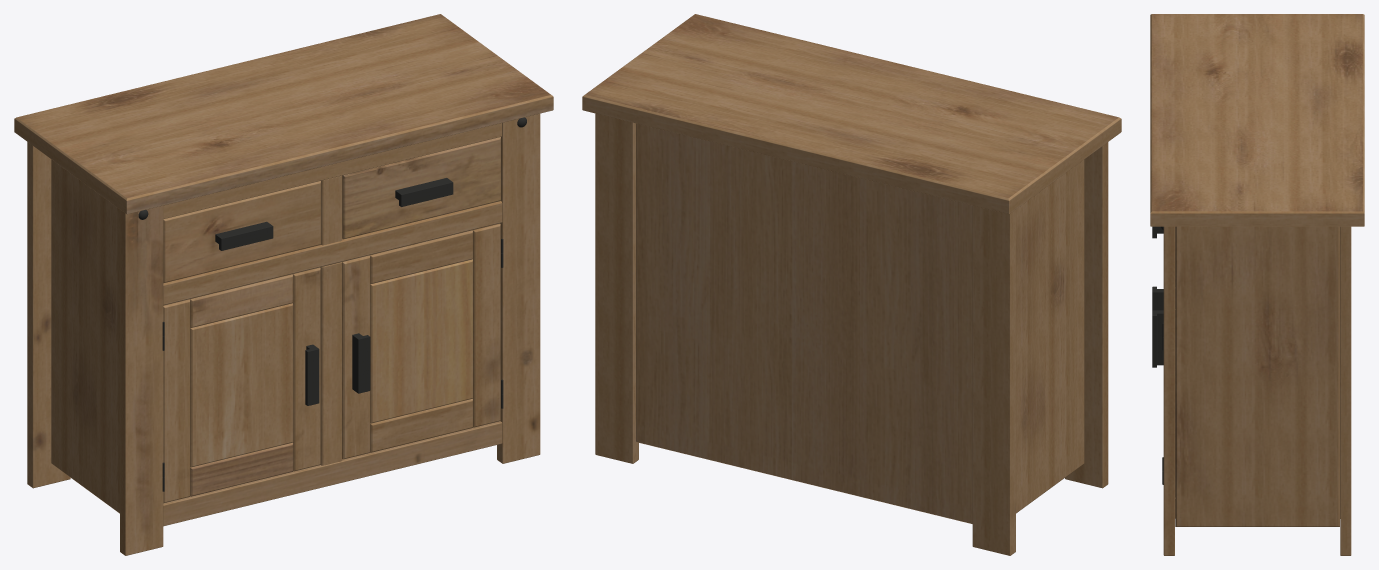
Rendered from drawer.glb.
3 views of the same model, side by side, from view 1: azimuth 30°, elevation 25°; view 2: azimuth 150°, elevation 25°; view 3: azimuth 270°, elevation 25° (orthographic). The views are drawn at different scales.
Parts seen in each view (by area): view 1: PTRCQZALLQ1Y18AC.001, PTRCQZALLQ1Y18AC.002; view 2: PTRCQZALLQ1Y18AC.001; view 3: PTRCQZALLQ1Y18AC.001, PTRCQZALLQ1Y18AC.002.
Part boxes in pixels (bbox=[...]): PTRCQZALLQ1Y18AC.001: bbox=[14, 14, 553, 555]; PTRCQZALLQ1Y18AC.002: bbox=[138, 117, 526, 491]; PTRCQZALLQ1Y18AC.001: bbox=[582, 14, 1121, 555]; PTRCQZALLQ1Y18AC.001: bbox=[1150, 14, 1364, 555]; PTRCQZALLQ1Y18AC.002: bbox=[1152, 226, 1163, 484].
Size of the model in its own units: 1.02 by 0.83 by 0.465.
Materials: 2 (2 with a texture image).
